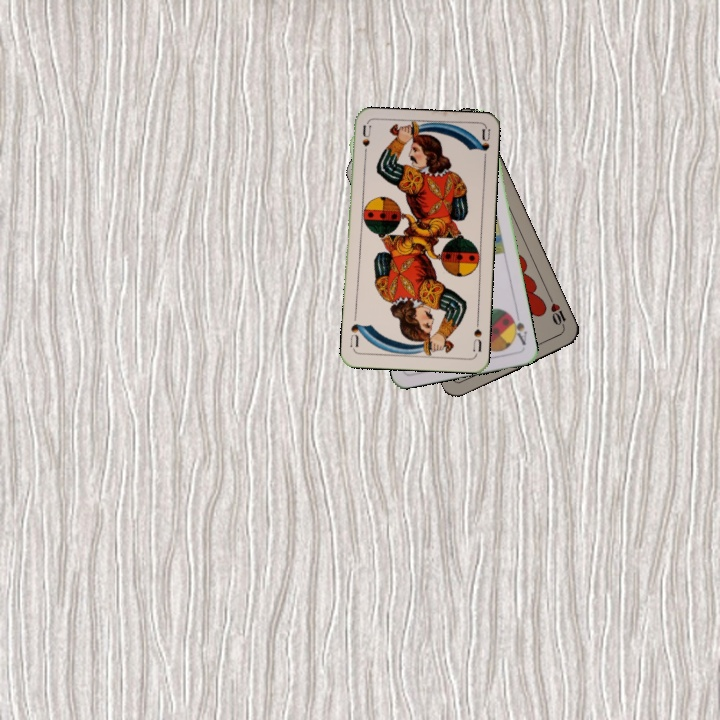H10: (545, 292, 569, 331)
SA: (506, 309, 530, 348)
SU: (358, 122, 374, 163), (469, 316, 484, 354)
